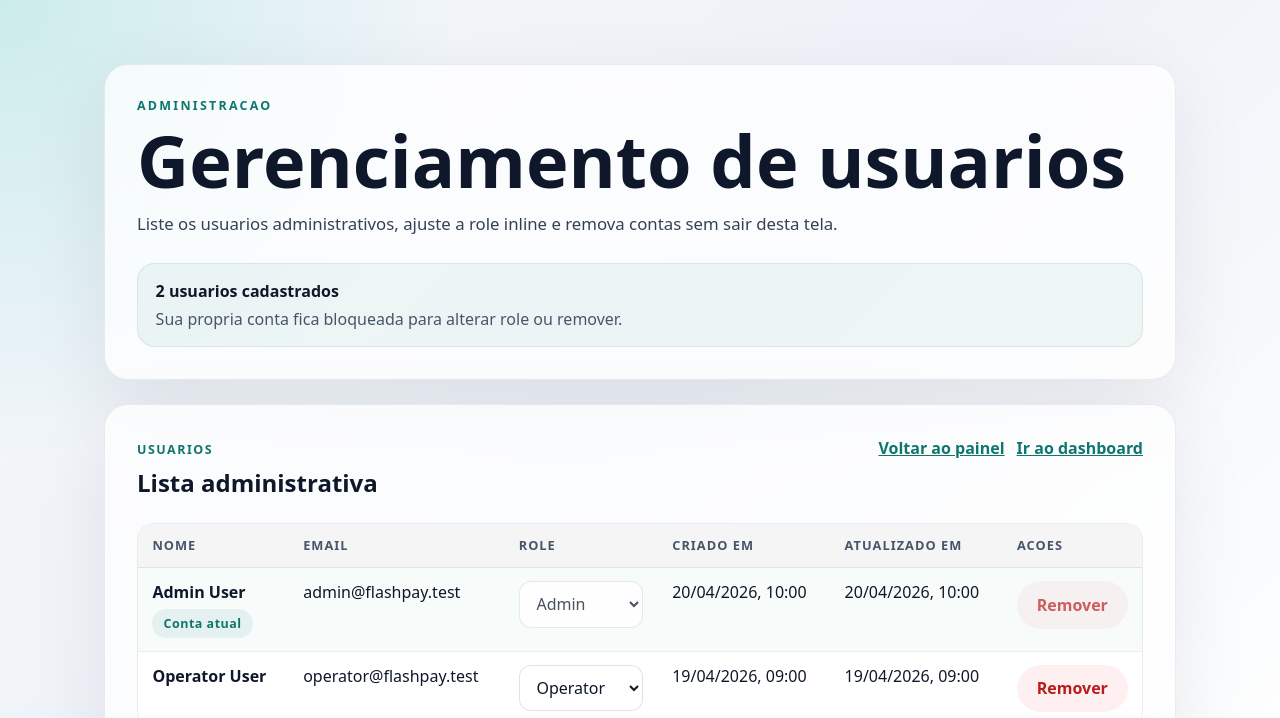
Test: AdminUsersPage › opens a confirmation modal before removing a user
This screenshot has width=1280, height=718.
Click the button with aria-label "Remover Operator User". click: (1072, 688)
box: [1017,665,1128,712]
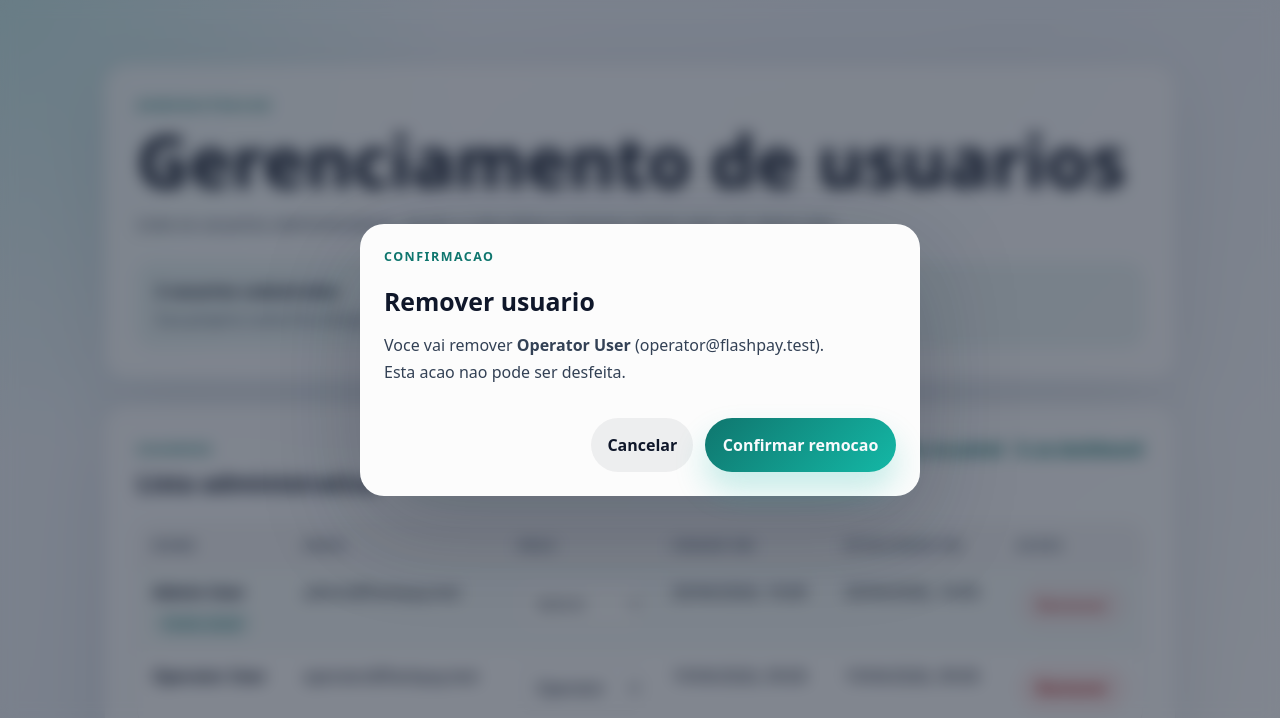
Result: the dialog "Remover usuario" shows "Voce vai remover Operator User" at [360,224,920,496]
Click the button "Confirmar remocao". click: (801, 445)
box: [705,418,896,472]
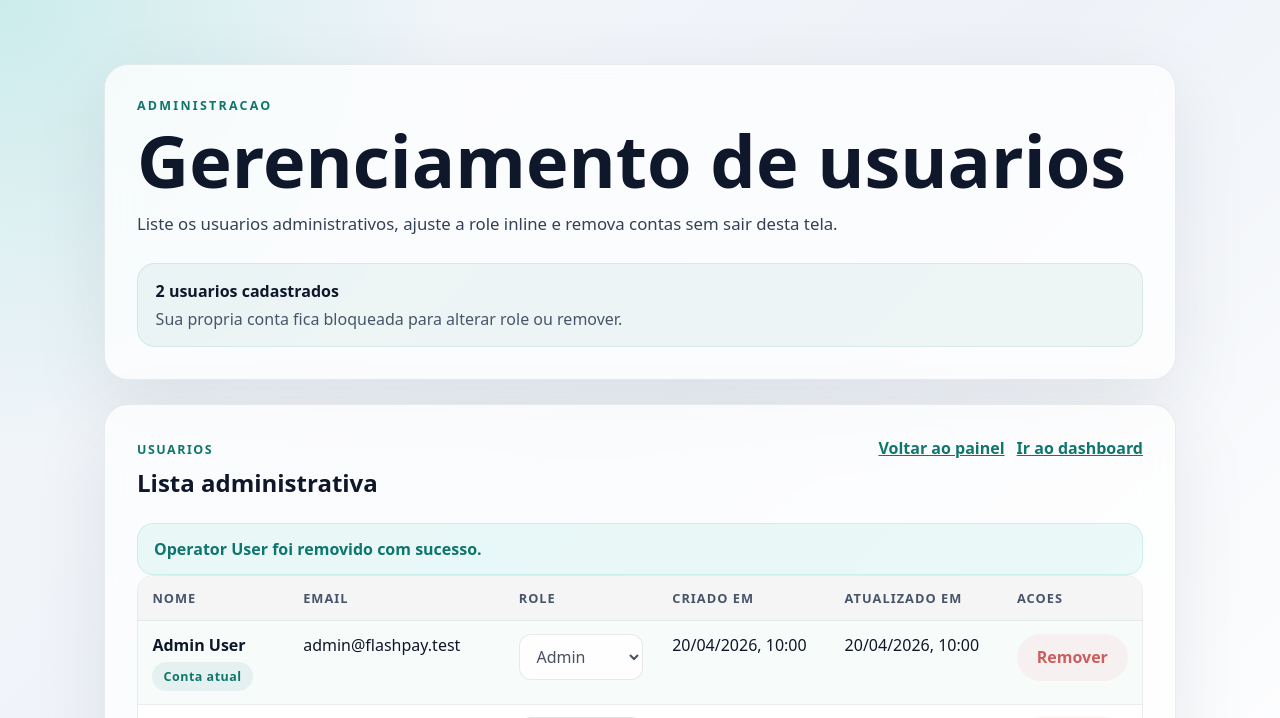
Result: the text "Operator User foi removido com sucesso." is shown at [137,522,1143,575]
